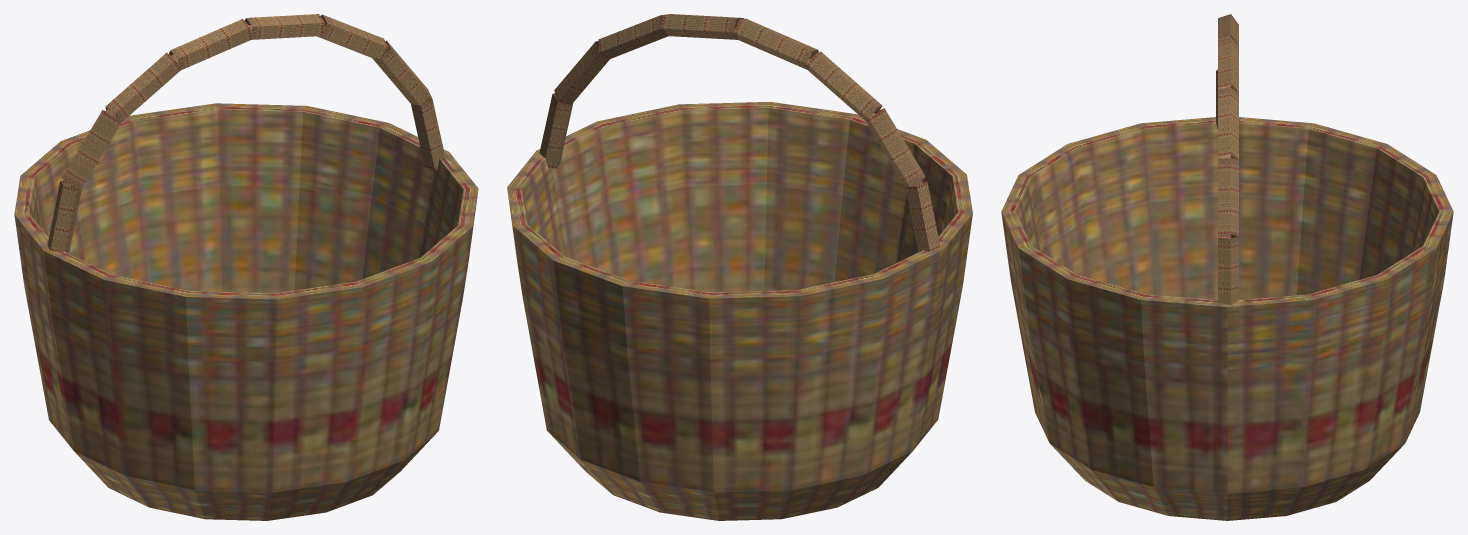
File: canasta.obj
3 views of the same model, side by side, from view 1: azimuth 30°, elevation 25°; view 2: azimuth 150°, elevation 25°; view 3: azimuth 270°, elevation 25° (orthographic). The views are drawn at different scales.
Parts seen in each view (by area): view 1: canasta; view 2: canasta; view 3: canasta.
Boxes of the visible parts, x1,y1,x2,y2 form: canasta: (14, 14, 478, 520); canasta: (507, 14, 972, 520); canasta: (1001, 14, 1453, 520).
Size of the model in its own units: 0.47 by 0.4812 by 0.47.
